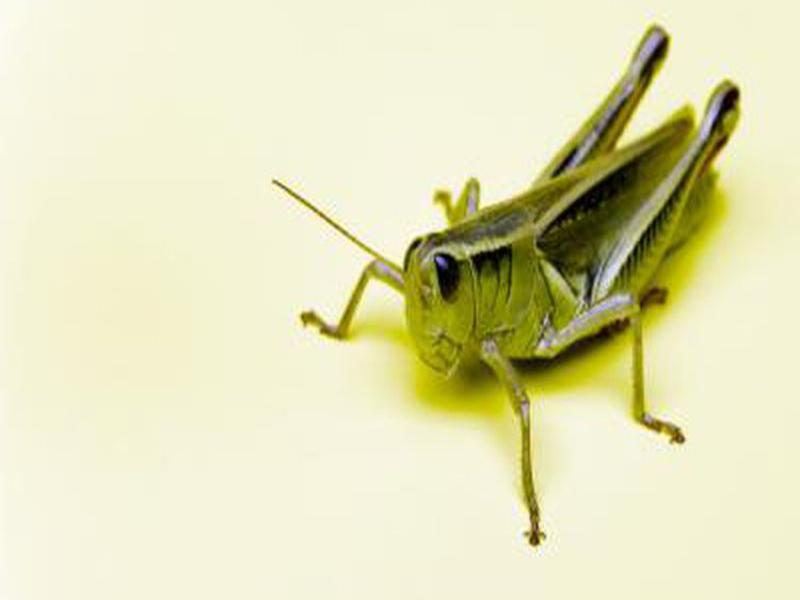Grasshopper: (318, 24, 777, 452)
